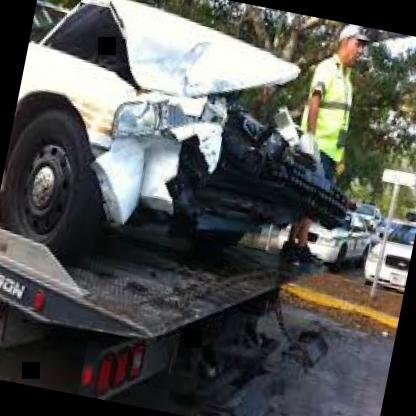accident: (0, 0, 388, 343)
